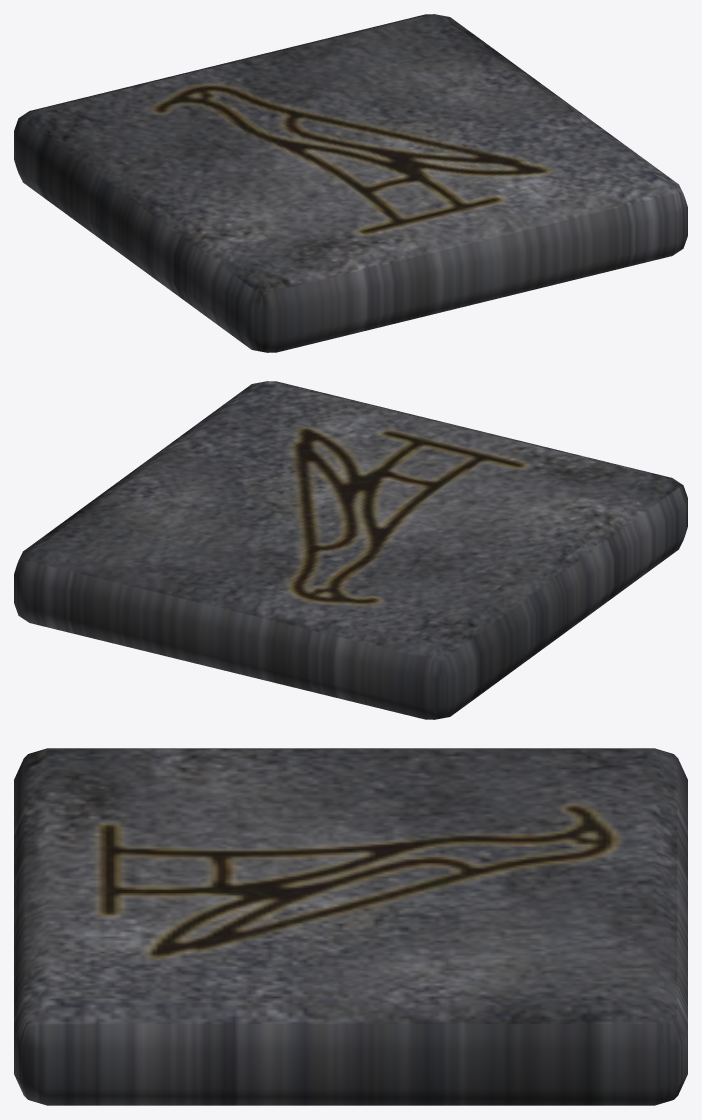
File: tas.fbx
3 views of the same model, one above another, from view 1: azimuth 30°, elevation 25°; view 2: azimuth 150°, elevation 25°; view 3: azimuth 270°, elevation 25° (orthographic). The views are drawn at different scales.
Parts seen in each view (by area): view 1: Plane; view 2: Plane; view 3: Plane.
Boxes of the visible parts, left/top/right/bottom form: Plane: left=14, top=14, right=687, bottom=352; Plane: left=14, top=381, right=687, bottom=719; Plane: left=14, top=748, right=687, bottom=1105.
Size of the model in its own units: 200 by 32.4 by 200.
1 material, 1 textured.
